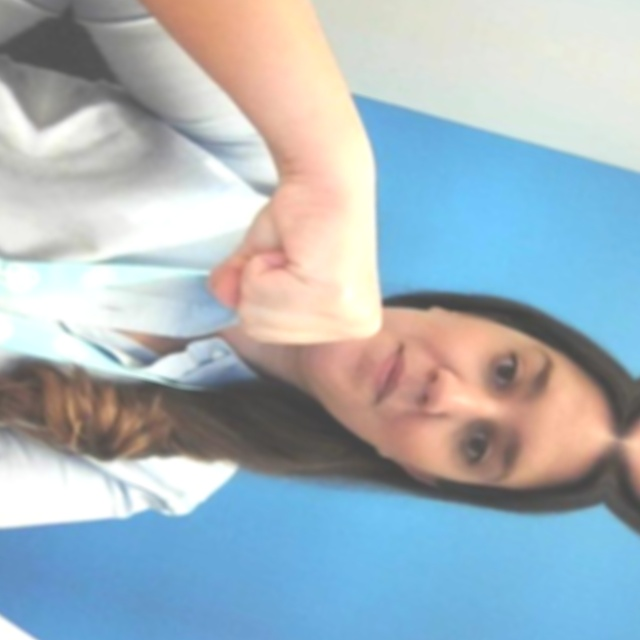Rock: (191, 148, 420, 377)
